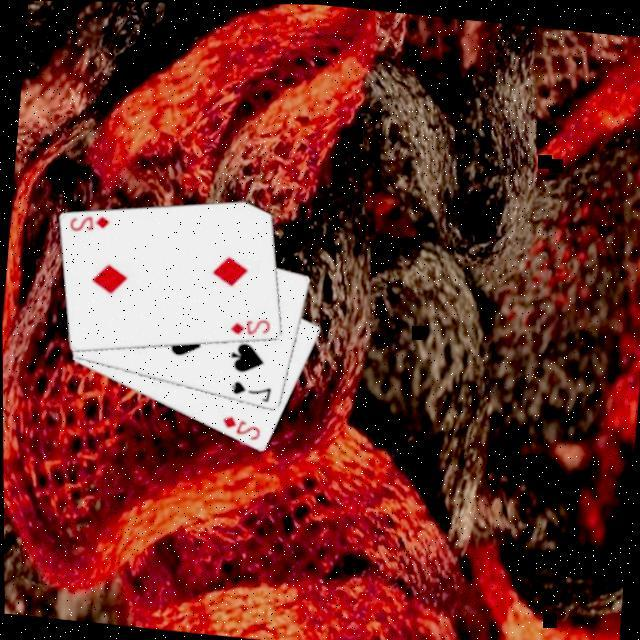2D: (214, 411, 261, 444), (224, 312, 271, 341), (63, 209, 110, 238)
7S: (224, 377, 272, 406)
